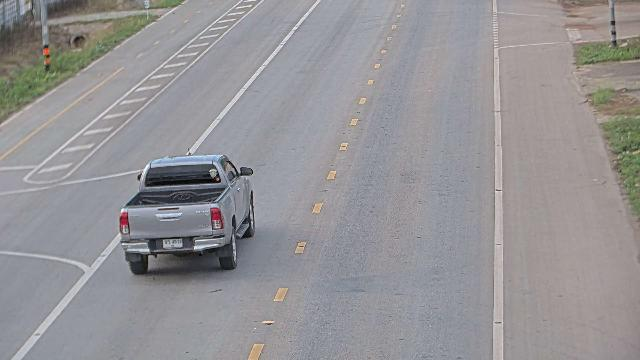pickup-truck: (118, 151, 256, 275)
